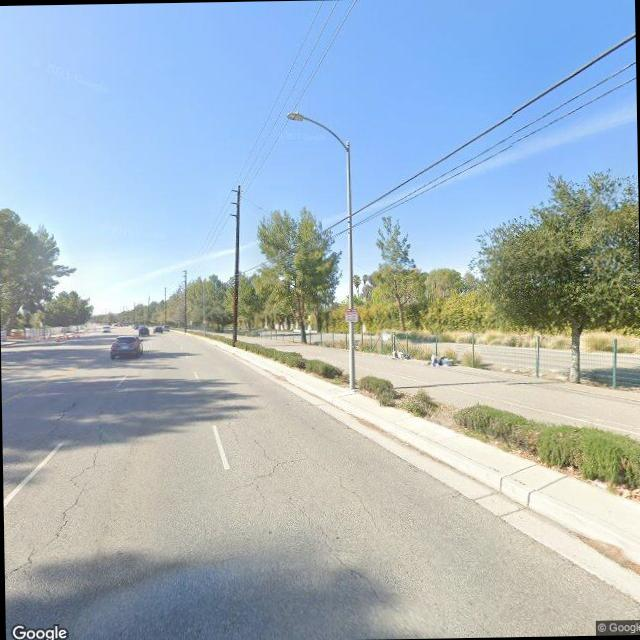crack: (214, 414, 384, 553)
pothole: (2, 420, 112, 602), (304, 448, 381, 533)
